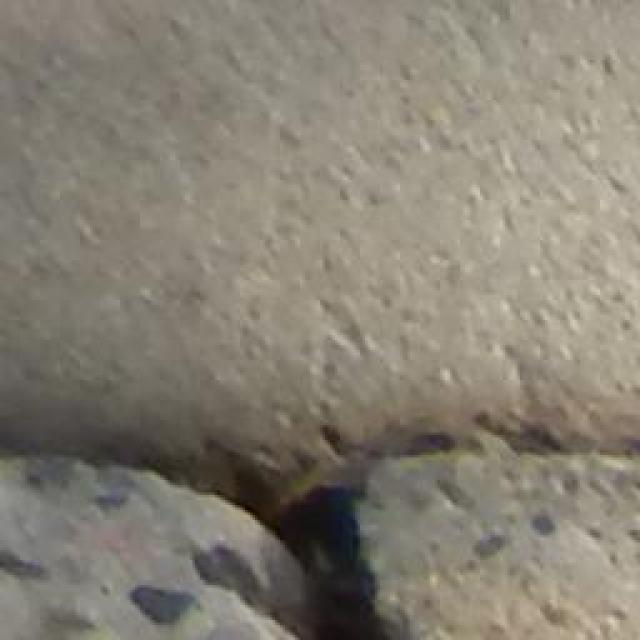concrete-crack: (0, 411, 639, 640)
